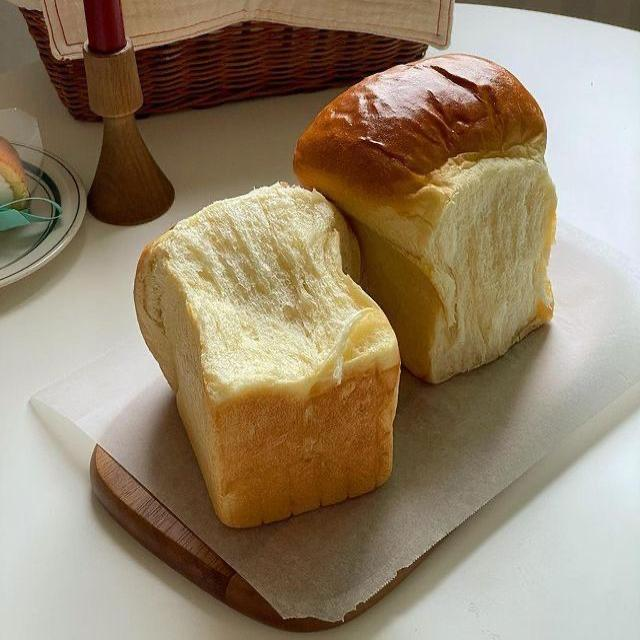bread: (134, 184, 399, 527), (294, 55, 555, 382), (0, 137, 28, 204)
